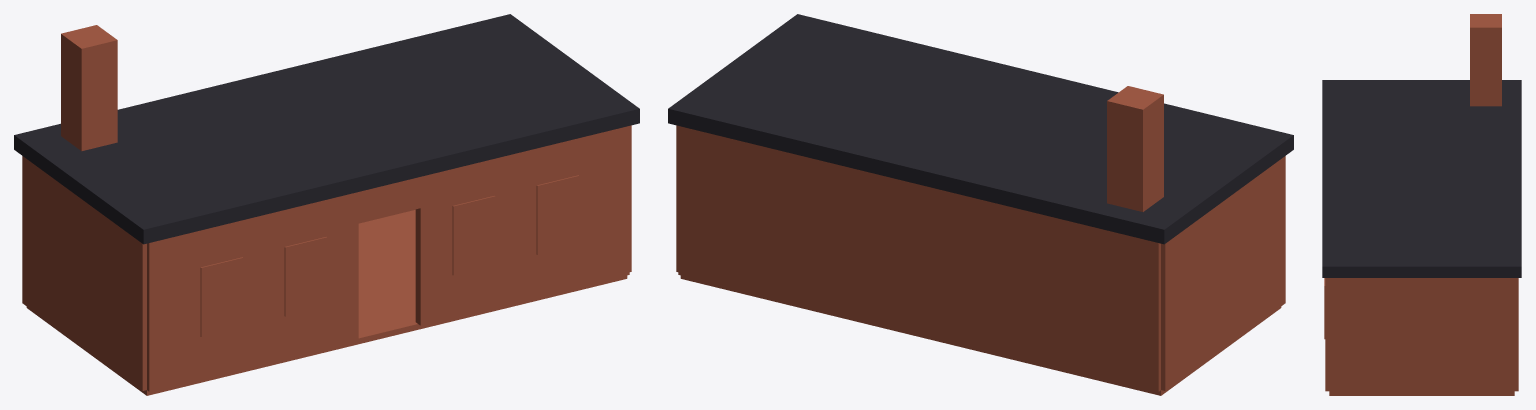
File: wardenclyffe_building.glb
3 renders of one model, left to right at view 1: azimuth 30°, elevation 25°; view 2: azimuth 150°, elevation 25°; view 3: azimuth 270°, elevation 25°, orthographic. The views are drawn at different scales.
Parts seen in each view (by area): view 1: roof, wall_south_r, wall_south_l, wall_west, floor_slab, chimney, window_frame_0, window_frame_2, window_frame_3, window_frame_1, wall_south_header; view 2: wall_north, roof, wall_west, chimney, floor_slab; view 3: roof, wall_east, chimney, wall_north, wall_south_r, floor_slab.
Boxes of the visible parts, x1,y1,x2,y2 form: roof: [14, 14, 639, 244]; wall_south_r: [415, 126, 629, 325]; wall_south_l: [147, 192, 358, 391]; wall_west: [22, 156, 146, 390]; floor_slab: [26, 210, 627, 395]; chimney: [61, 25, 117, 151]; window_frame_0: [200, 257, 243, 336]; window_frame_2: [452, 196, 495, 275]; window_frame_3: [536, 175, 579, 254]; window_frame_1: [284, 237, 327, 316]; wall_south_header: [358, 177, 420, 222]; wall_north: [678, 126, 1160, 391]; roof: [668, 14, 1293, 244]; wall_west: [1161, 156, 1285, 390]; chimney: [1107, 86, 1163, 211]; floor_slab: [680, 275, 1281, 395]; roof: [1322, 80, 1521, 277]; wall_east: [1329, 278, 1514, 392]; chimney: [1470, 14, 1501, 106]; wall_north: [1514, 278, 1518, 391]; wall_south_r: [1325, 278, 1329, 391]; floor_slab: [1329, 393, 1514, 395].
Bounding box in the file's own units: 12.4 × 6.54 × 5.6.
